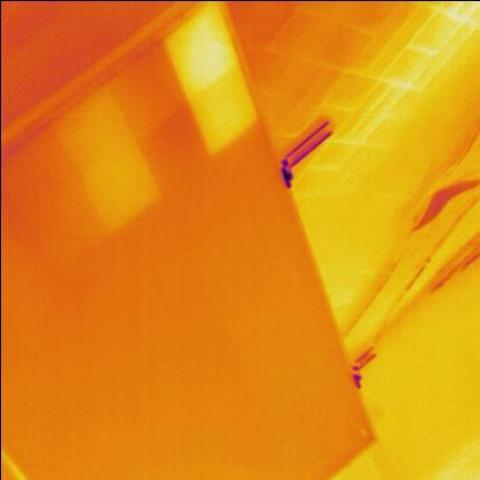fault: (188, 16, 224, 92)
